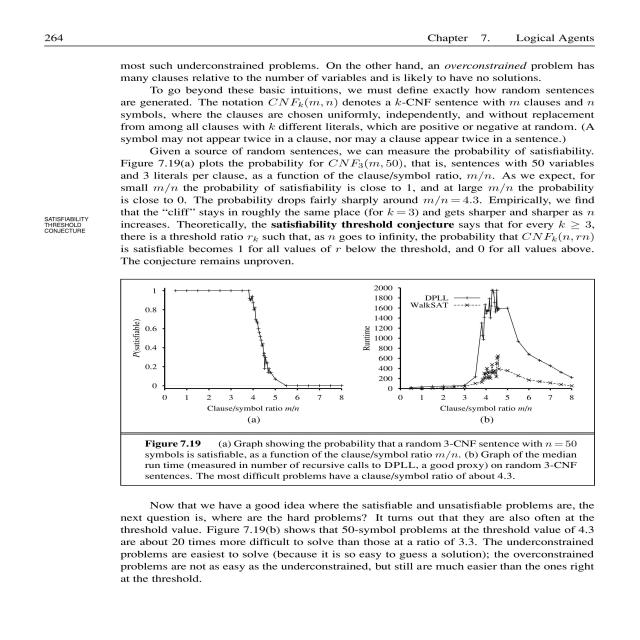diagram: (103, 270, 589, 510)
